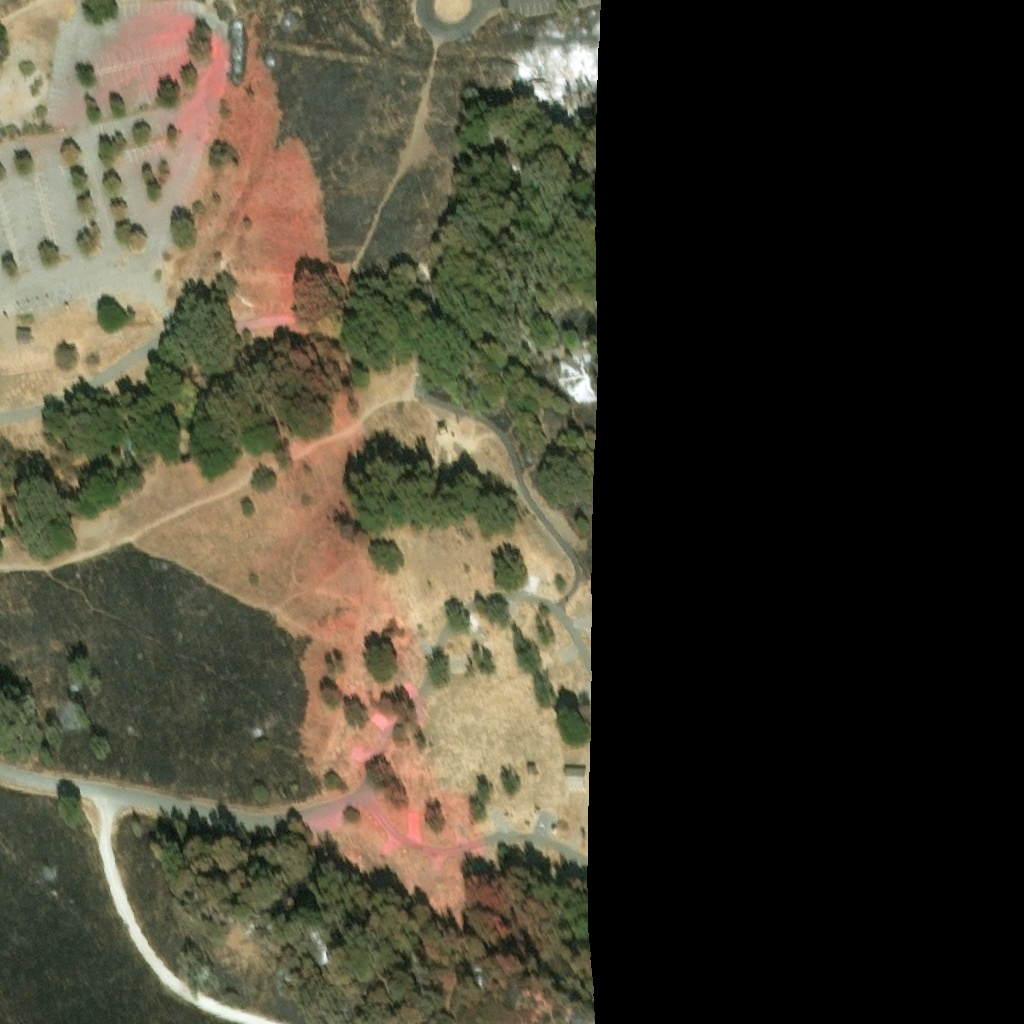0 no-damage: (564, 764, 584, 784), (17, 327, 30, 340)
